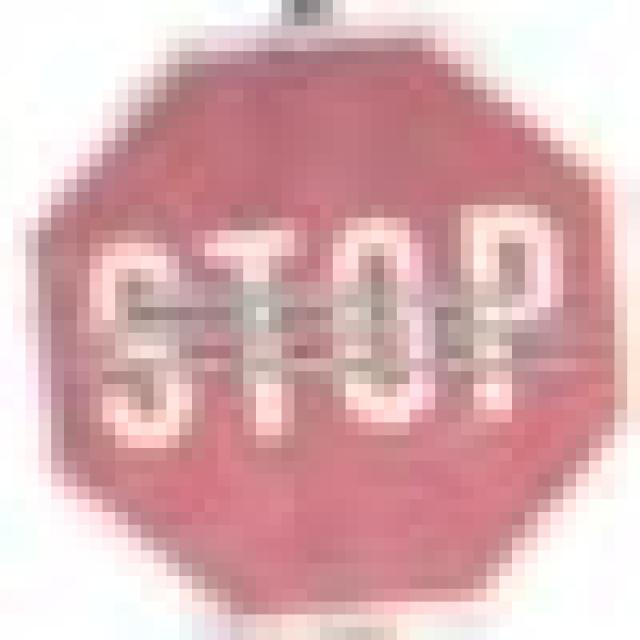STOP: (26, 26, 627, 588)
